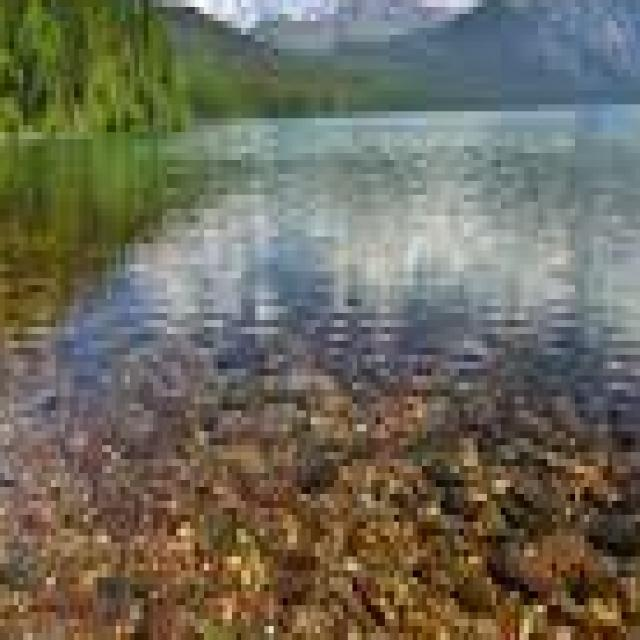-: (232, 111, 640, 362)
